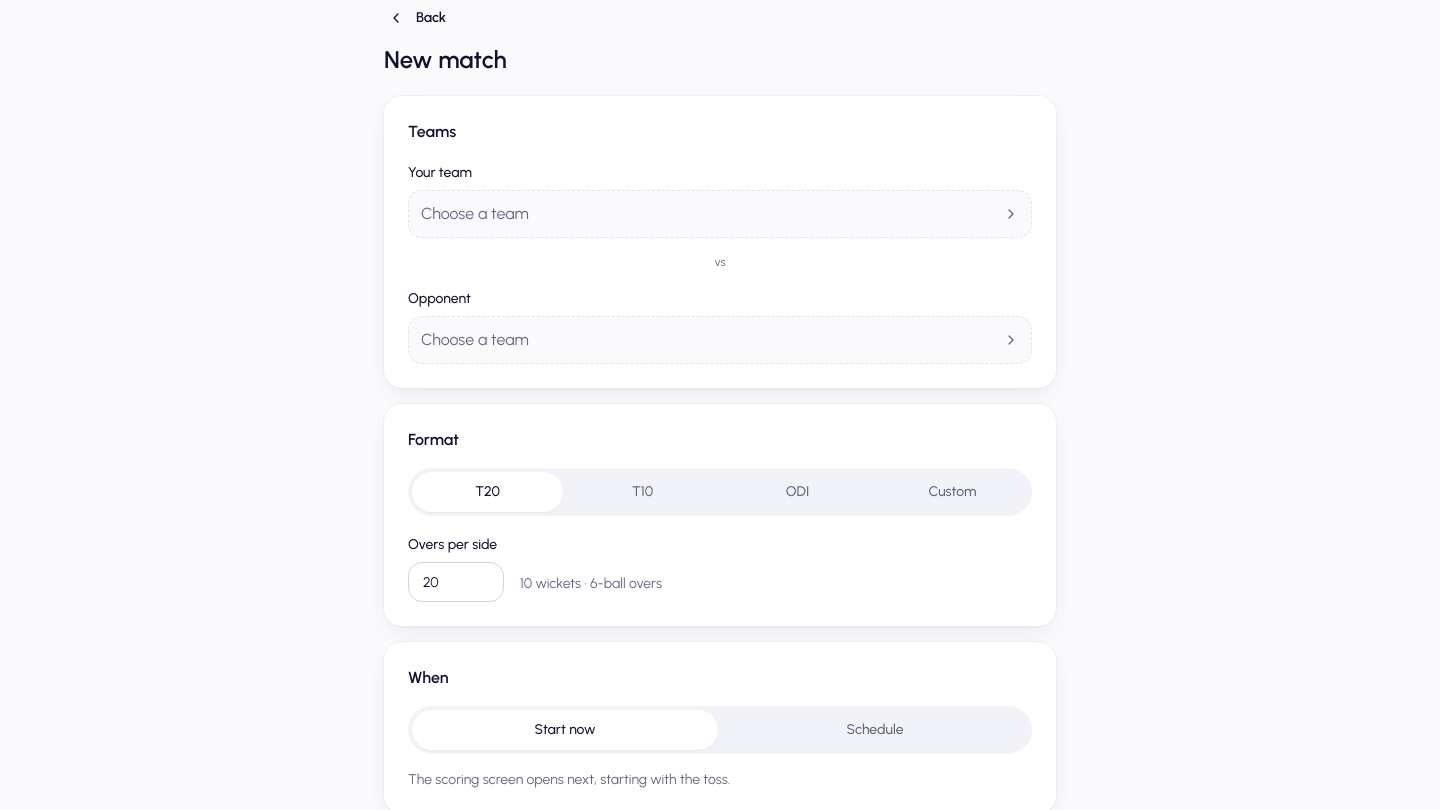
Test: New match form › creates an opponent inline with a short name and selects it
Click the button named "opponent" at (475, 340), box x1=408 y1=316 x2=1032 y2=364
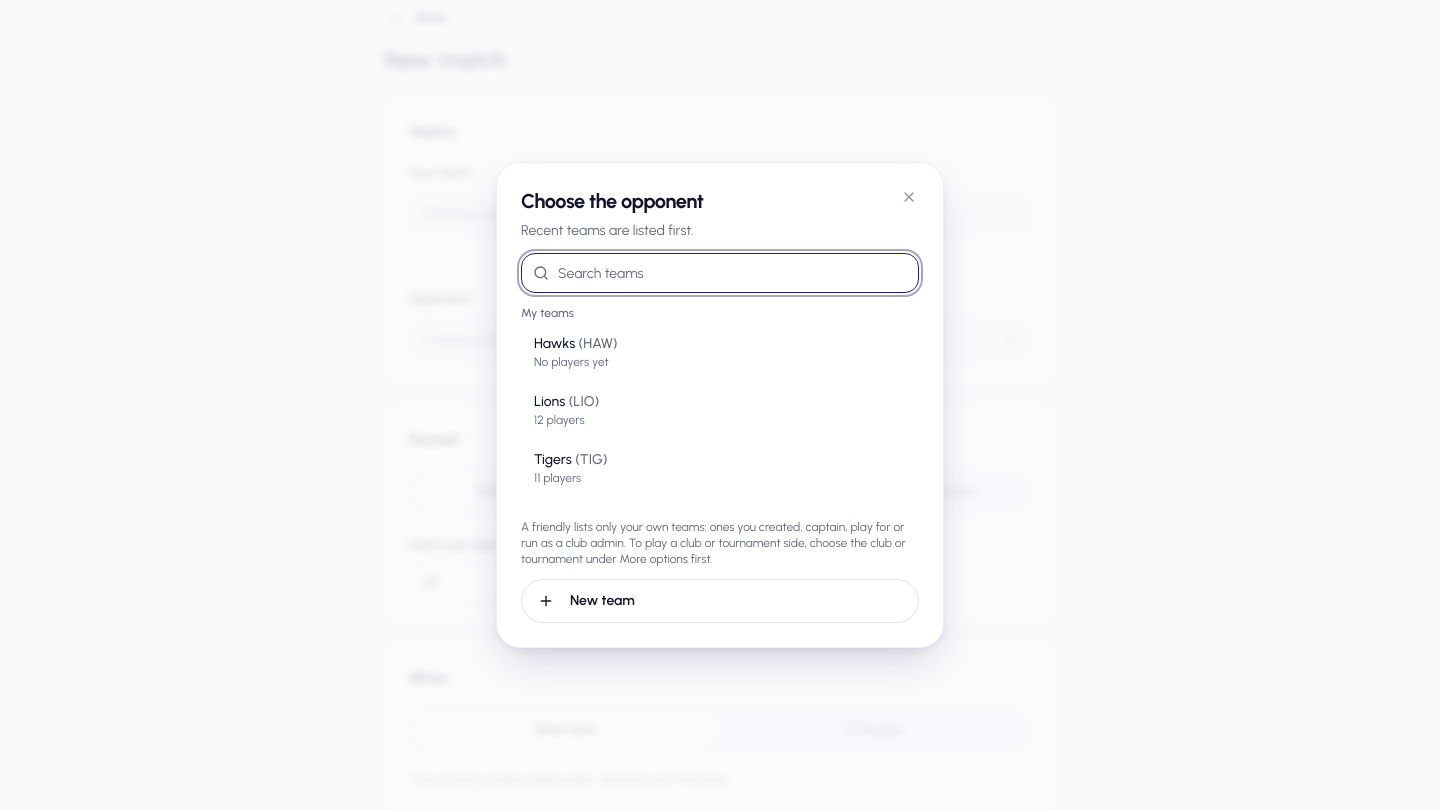
Type "Rivals" into the search field labelled "Search teams" at (720, 273), box x1=521 y1=253 x2=919 y2=293
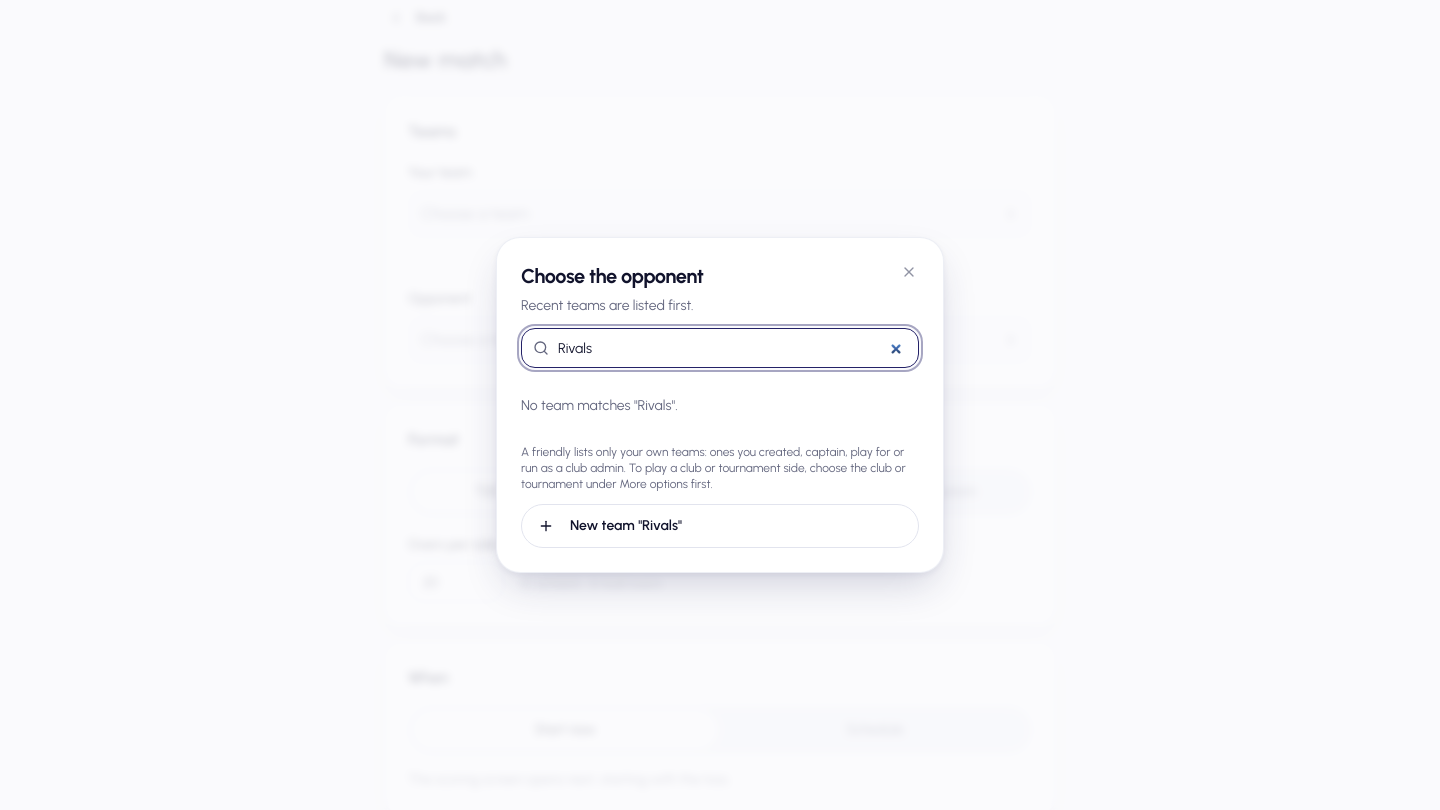
Expected: the message shows "No team matches", x1=521 y1=397 x2=638 y2=414
Click the button "New team \"Rivals\"" at (626, 526), box x1=521 y1=504 x2=919 y2=548
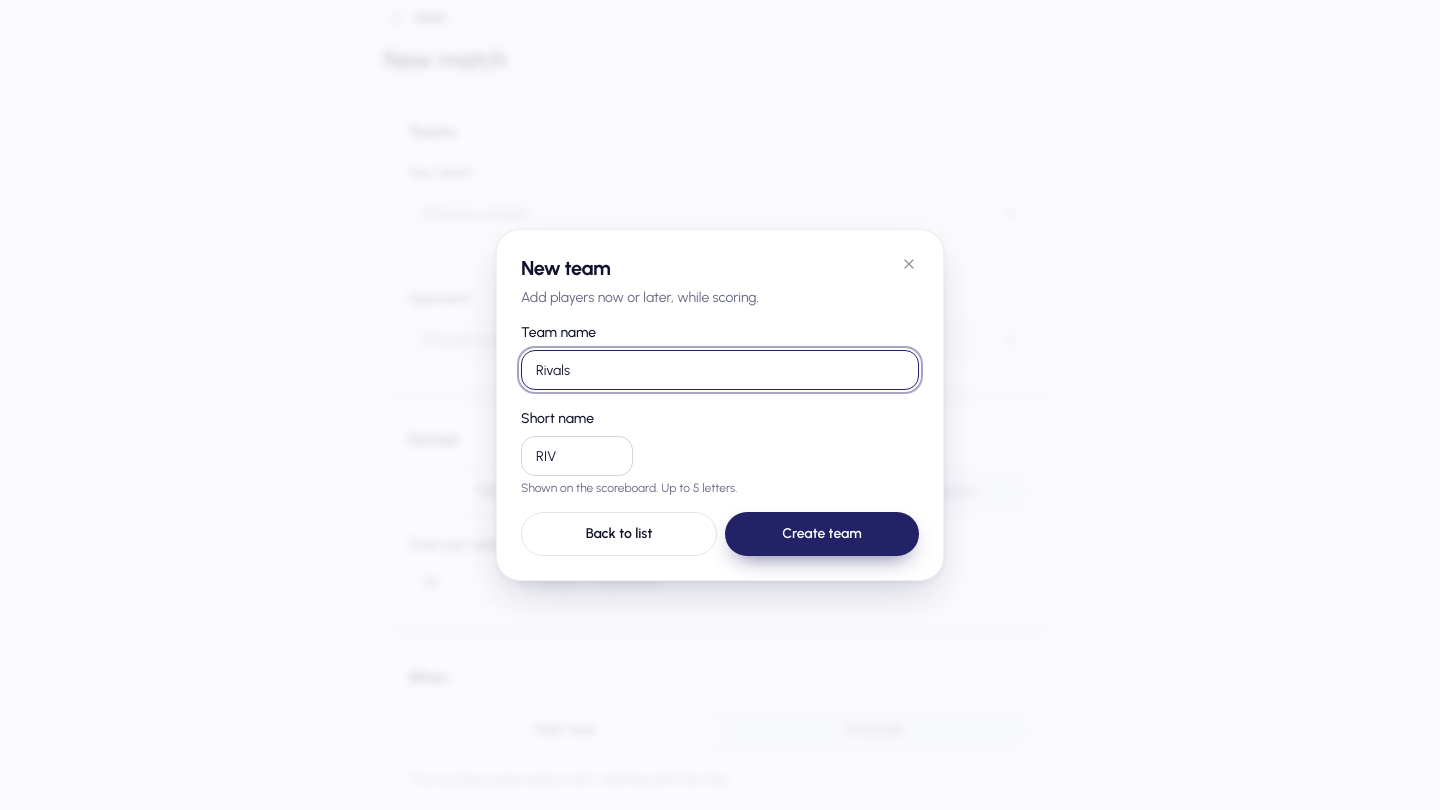
Expected: the field labelled "Team name" holds "Rivals", x1=521 y1=350 x2=919 y2=390
Expected: the field labelled "Short name" holds "RIV", x1=521 y1=436 x2=633 y2=476
Click the button "Create team" at (822, 534), box x1=725 y1=512 x2=919 y2=556
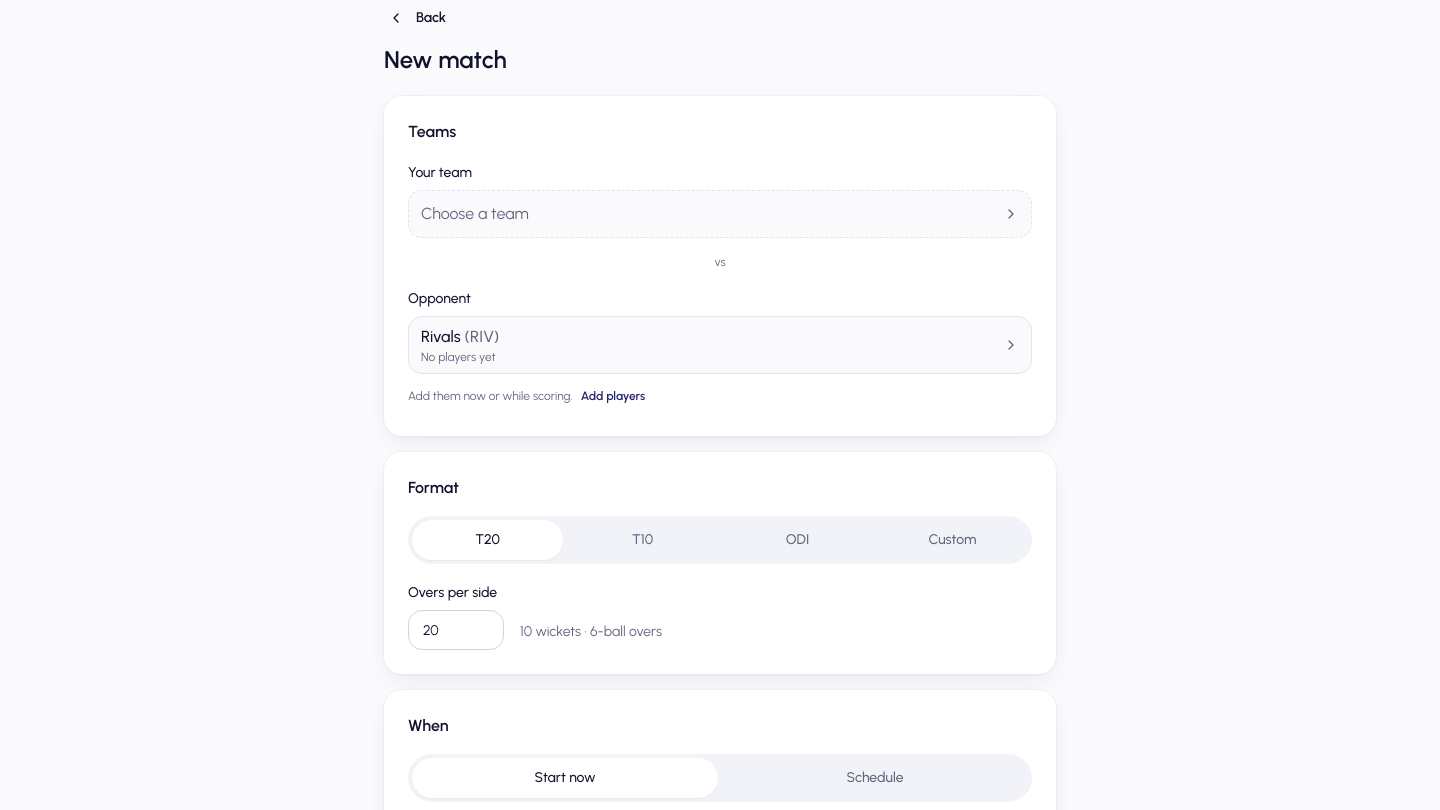
Expected: the button named "opponent" shows "Rivals", x1=408 y1=316 x2=1032 y2=374
Expected: the text "No players yet" is shown, x1=421 y1=350 x2=496 y2=364
